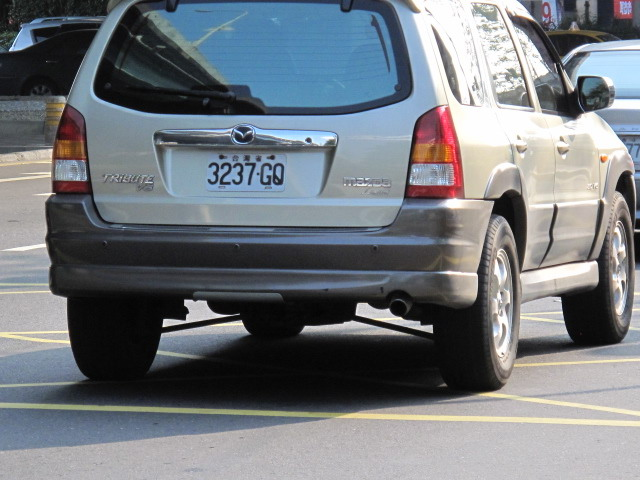plate: (205, 151, 289, 194)
